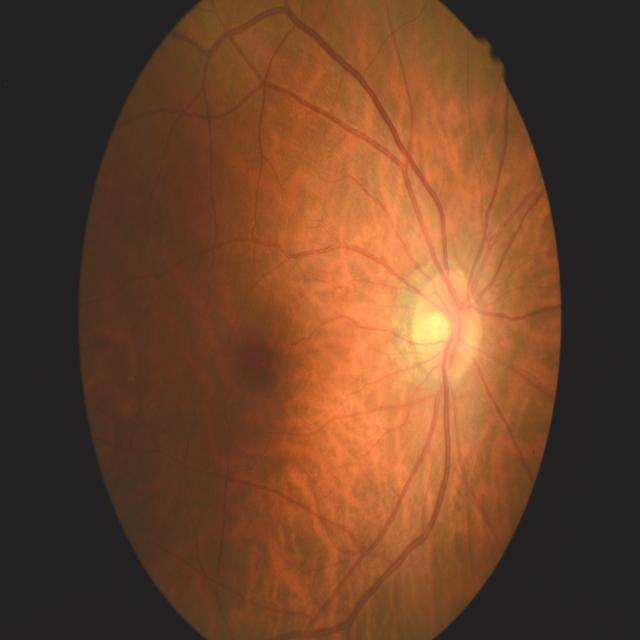cup: (421, 308, 451, 350)
disk: (412, 270, 483, 384)
